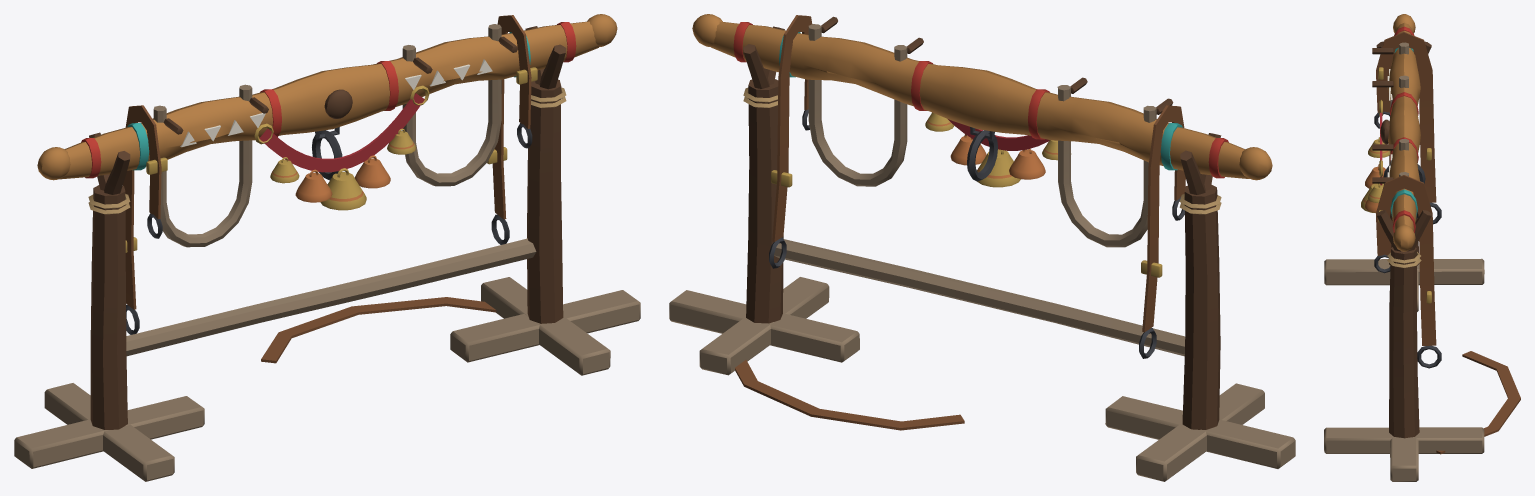
The model's file is deco_yoke_harness.fbx.
3 views of the same model, side by side, from view 1: azimuth 30°, elevation 25°; view 2: azimuth 150°, elevation 25°; view 3: azimuth 270°, elevation 25° (orthographic). The views are drawn at different scales.
Visible parts, largest first — view 1: YokeHarness_Stand, YokeHarness_Yoke, YokeHarness_Straps, YokeHarness_Bells; view 2: YokeHarness_Stand, YokeHarness_Yoke, YokeHarness_Straps, YokeHarness_Bells; view 3: YokeHarness_Stand, YokeHarness_Straps, YokeHarness_Yoke, YokeHarness_Bells.
Part boxes in pixels (bbox=[...]): YokeHarness_Stand: bbox=[14, 26, 640, 481]; YokeHarness_Yoke: bbox=[37, 14, 617, 247]; YokeHarness_Straps: bbox=[123, 15, 537, 363]; YokeHarness_Bells: bbox=[254, 85, 429, 210]; YokeHarness_Stand: bbox=[669, 26, 1295, 481]; YokeHarness_Yoke: bbox=[692, 14, 1272, 247]; YokeHarness_Straps: bbox=[735, 15, 1185, 430]; YokeHarness_Bells: bbox=[925, 112, 1071, 187]; YokeHarness_Stand: bbox=[1324, 41, 1484, 481]; YokeHarness_Straps: bbox=[1374, 32, 1520, 454]; YokeHarness_Yoke: bbox=[1372, 14, 1425, 251]; YokeHarness_Bells: bbox=[1361, 100, 1390, 213].
Bounding box in the file's own units: 314 × 162 × 111.
